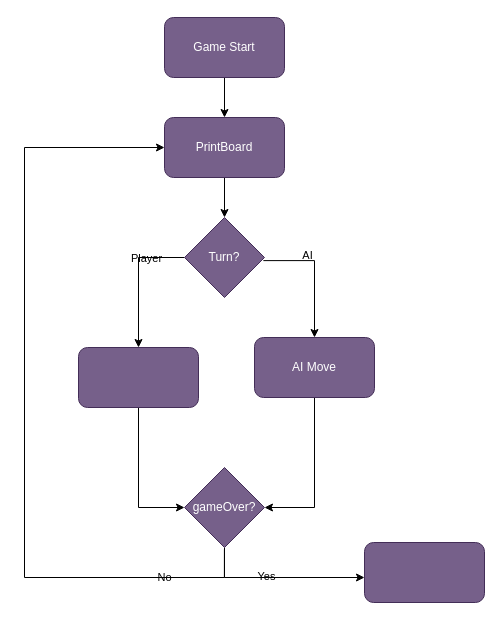
Image size: 502x620. Some labels were removed from this diagram. Here are the shapes that lost their labels. From the top down, the box of each, then its label:
(78, 346, 198, 408): Player Move
(364, 542, 484, 602): Game Over
